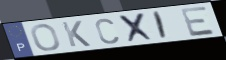C: (94, 17, 121, 45)
E: (178, 5, 217, 38)
I: (153, 10, 169, 41)
K: (60, 20, 93, 48)
O: (29, 23, 62, 52)
X: (117, 12, 158, 44)
